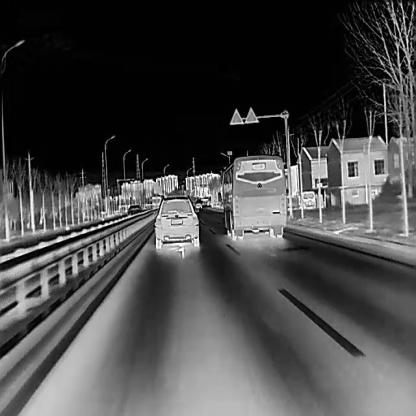bus: (216, 154, 286, 240)
car: (153, 192, 198, 248), (127, 203, 140, 217), (195, 202, 201, 209)
